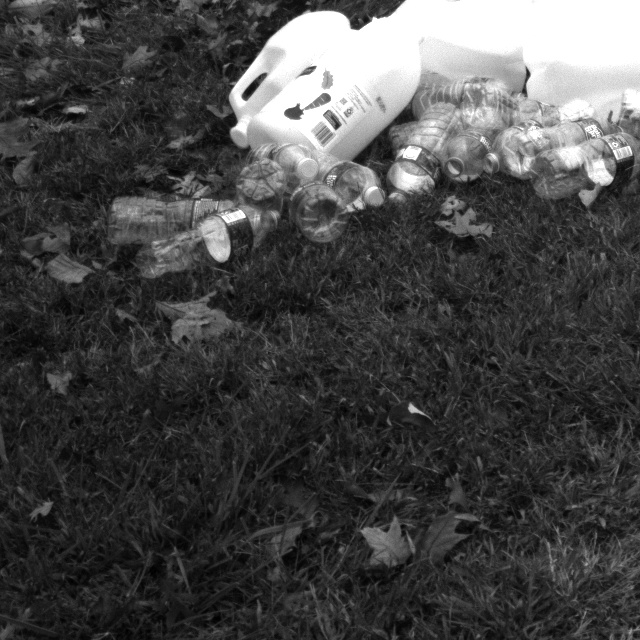bottle: (131, 200, 277, 283), (380, 94, 464, 212), (249, 141, 392, 209), (492, 112, 633, 178), (106, 189, 268, 243), (526, 128, 640, 198), (439, 98, 510, 192)
can: (245, 11, 426, 178), (223, 5, 362, 153), (517, 0, 640, 117), (413, 0, 519, 97)
